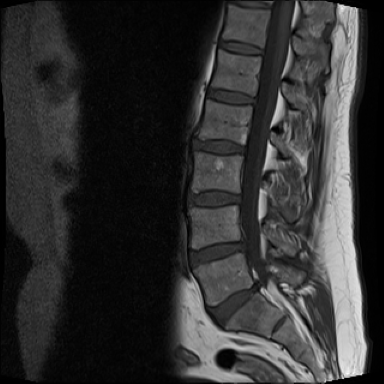Degenerative Disc Disease (DDD): (227, 0, 275, 12)
Lumbar Disc Bulge (LDB): (197, 274, 265, 331)
Normal IVD: (179, 241, 251, 271), (188, 130, 248, 161), (176, 184, 242, 211), (204, 84, 258, 110), (214, 34, 266, 58)
